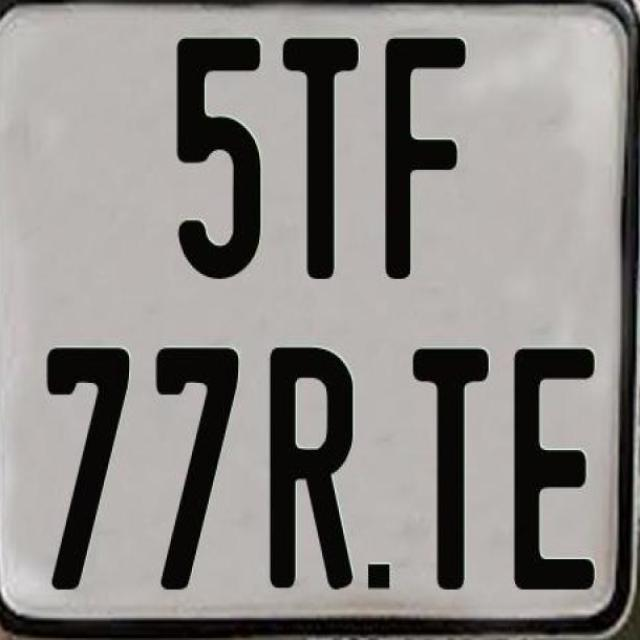license-plate: (5, 10, 619, 640), (0, 8, 4, 10)
